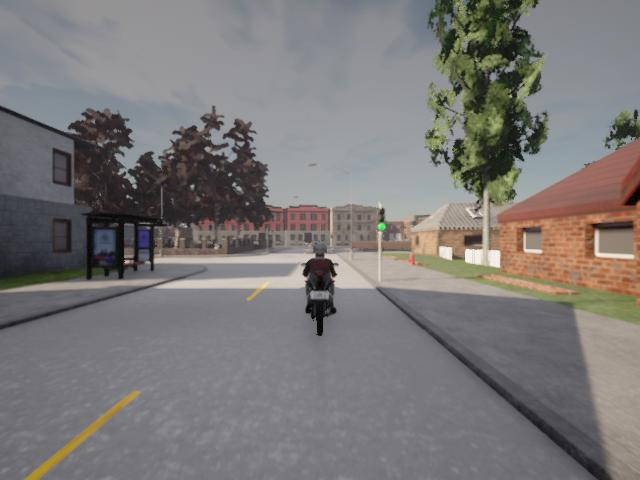3: (377, 208, 386, 231)
bike: (300, 243, 339, 336)
